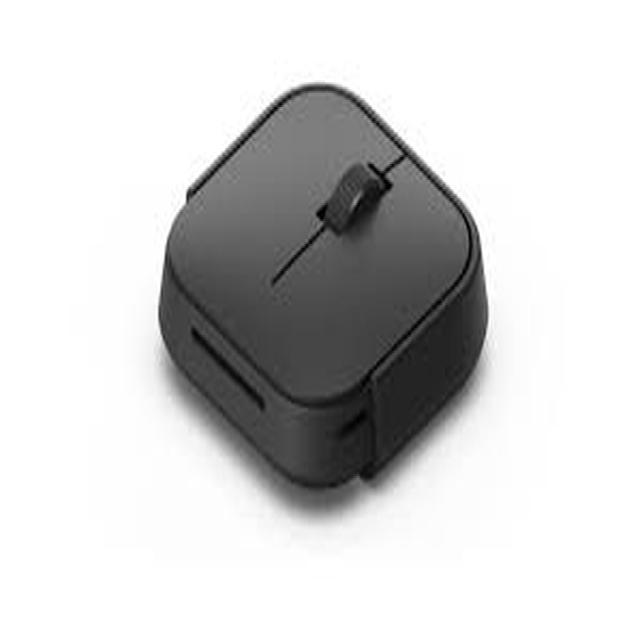mouse: (107, 70, 536, 496)
